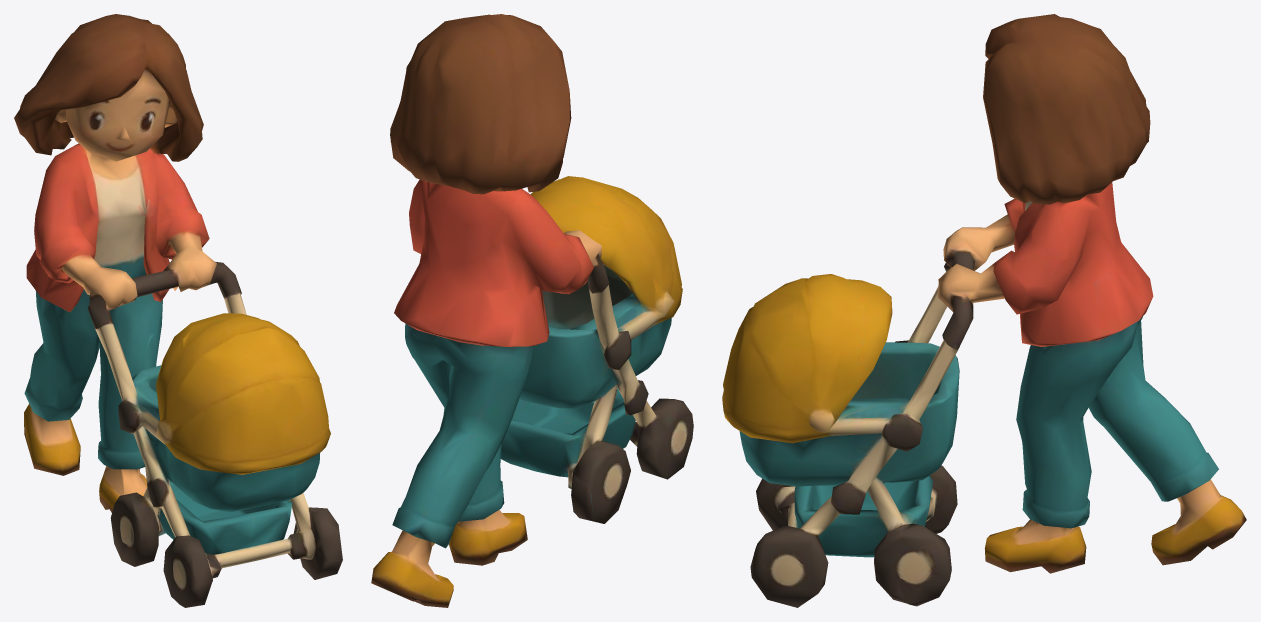
File: city-ped-stroller.glb
The picture shows the model from 3 angles, left to right: view 1: azimuth 30°, elevation 25°; view 2: azimuth 150°, elevation 25°; view 3: azimuth 270°, elevation 25°; orthographic projection. The views are drawn at different scales.
Visible parts, largest first — view 1: city-ped-stroller; view 2: city-ped-stroller; view 3: city-ped-stroller.
Part boxes in pixels (x1,y1,x2,y2): city-ped-stroller: [14, 14, 342, 607]; city-ped-stroller: [371, 14, 693, 607]; city-ped-stroller: [722, 14, 1246, 607].
Size of the model in its own units: 0.6129 by 1.6 by 1.41.
1 material, 1 textured.
